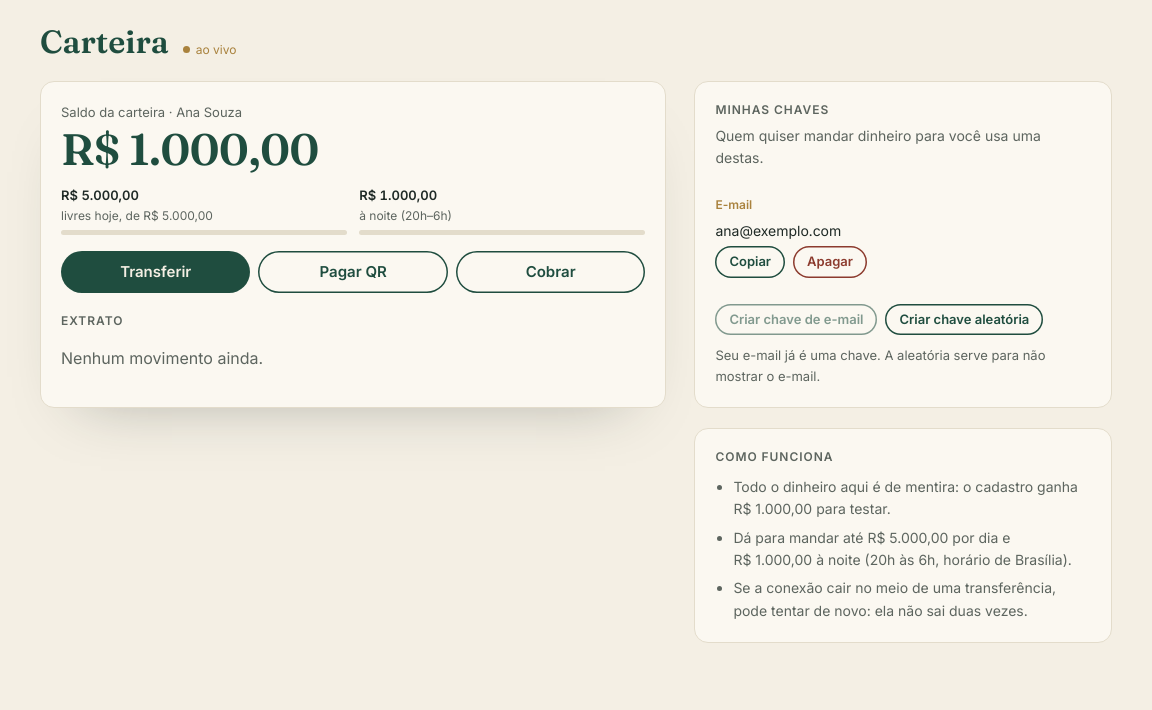
Minhas chaves › cria uma chave aleatória e mostra a lista nova
expect the text "ana@exemplo.com" is shown: met, box [715, 222, 841, 239]
expect the button "Criar chave de e-mail" is disabled: met, box [715, 304, 877, 335]
Click the button "Criar chave aleatória" at (964, 320), box [885, 304, 1043, 335]
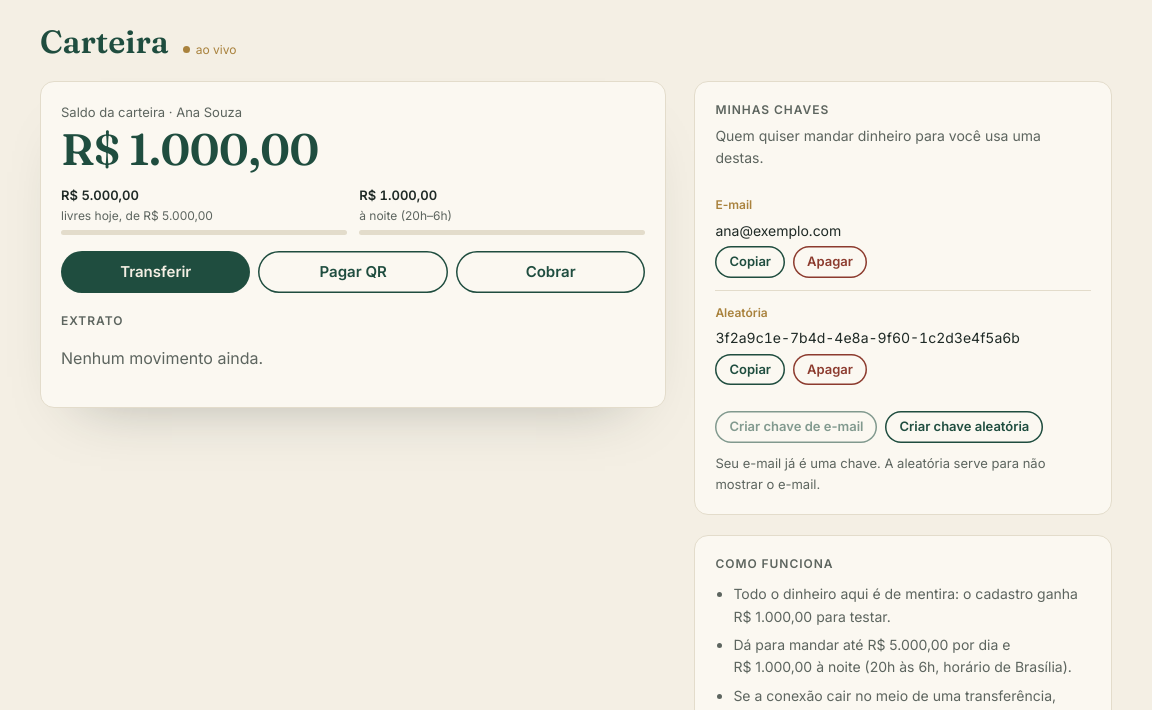
expect the text "3f2a9c1e-7b4d-4e8a-9f60-1c2d3e4f5a6b" is shown: met, box [715, 329, 1020, 346]
expect the text "Aleatória" is shown: met, box [715, 305, 768, 320]
